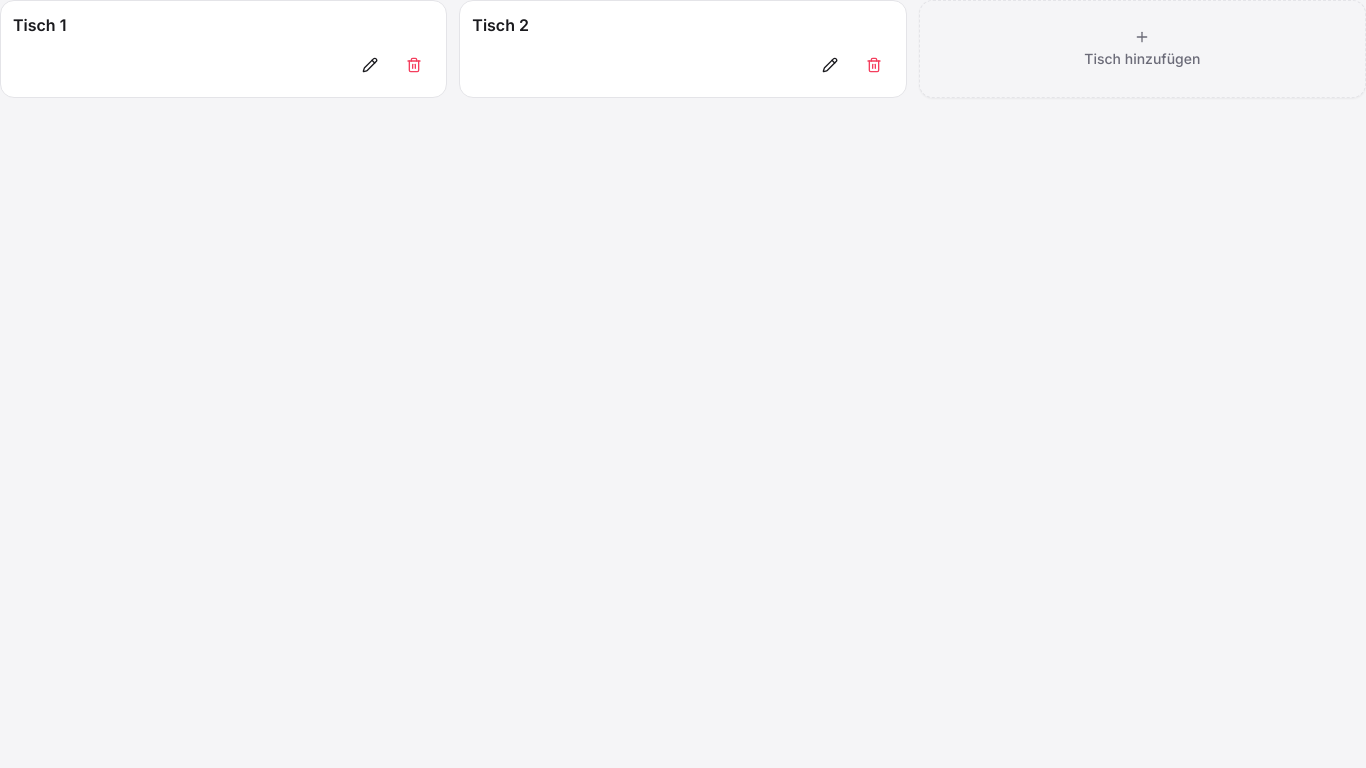
StationManager › deletes a station only after it was confirmed
Check: the button "Tisch hinzufügen" is shown, box [919,0,1365,98]
Click the button named "Tisch 2 löschen": (874, 65) [854,45,894,85]
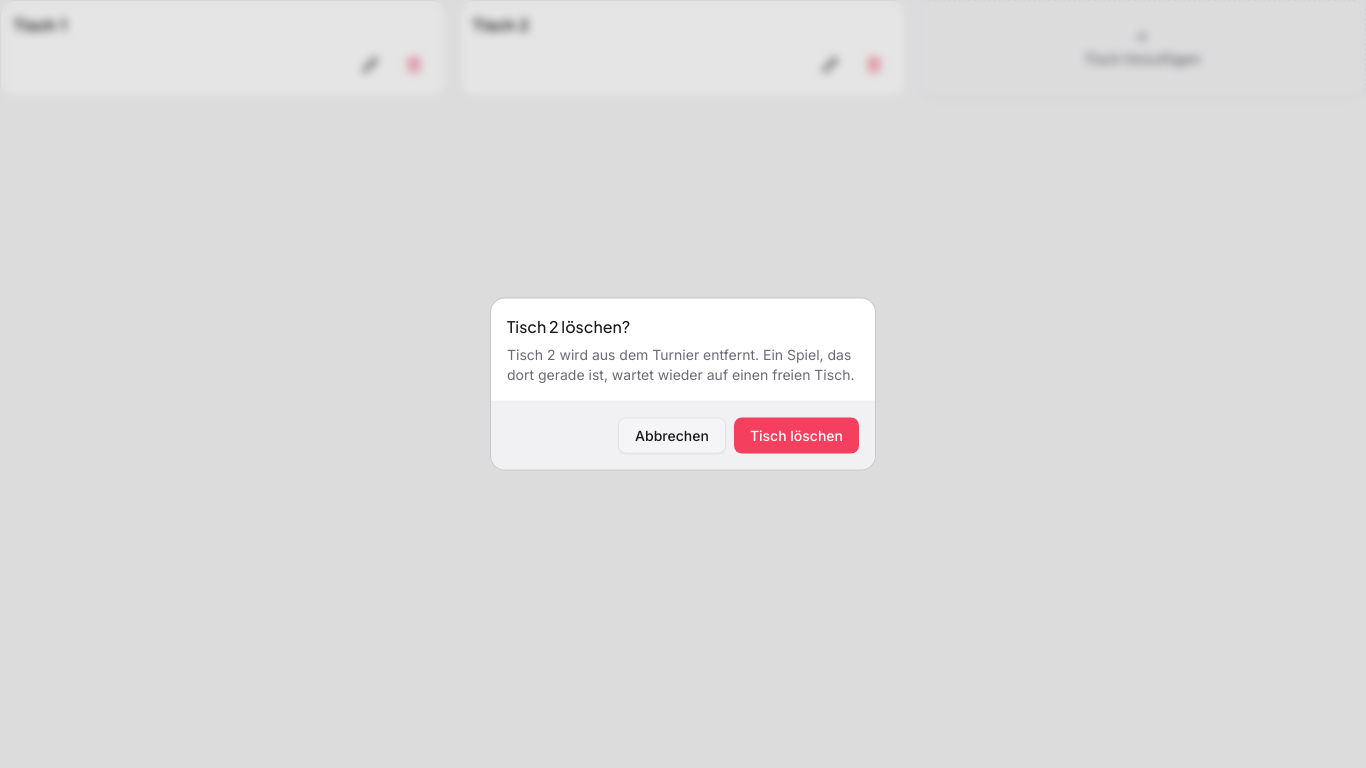
Check: the heading "Tisch 2 löschen?" is shown, box [507,314,630,338]
Click the button "Tisch löschen": (796, 436) [734,418,859,454]
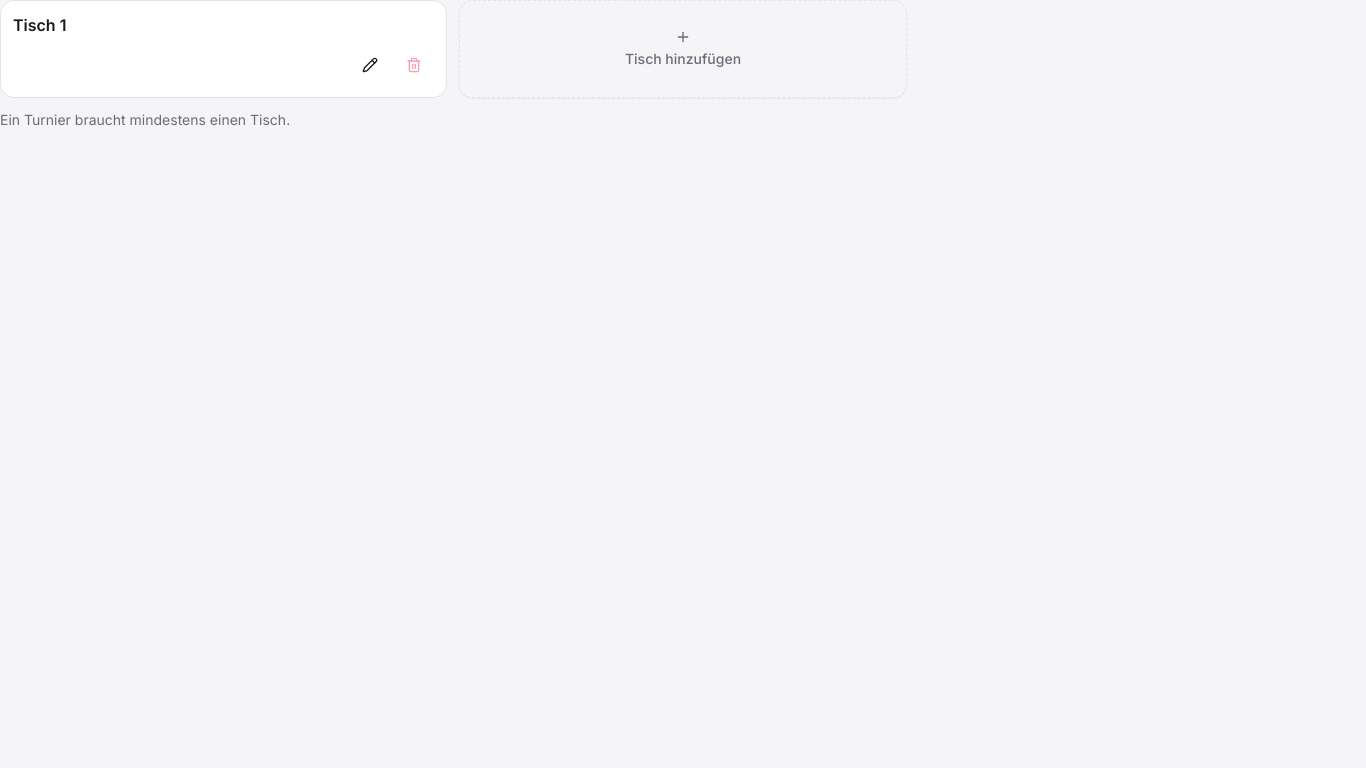
Check: the text "Tisch 2" is gone
